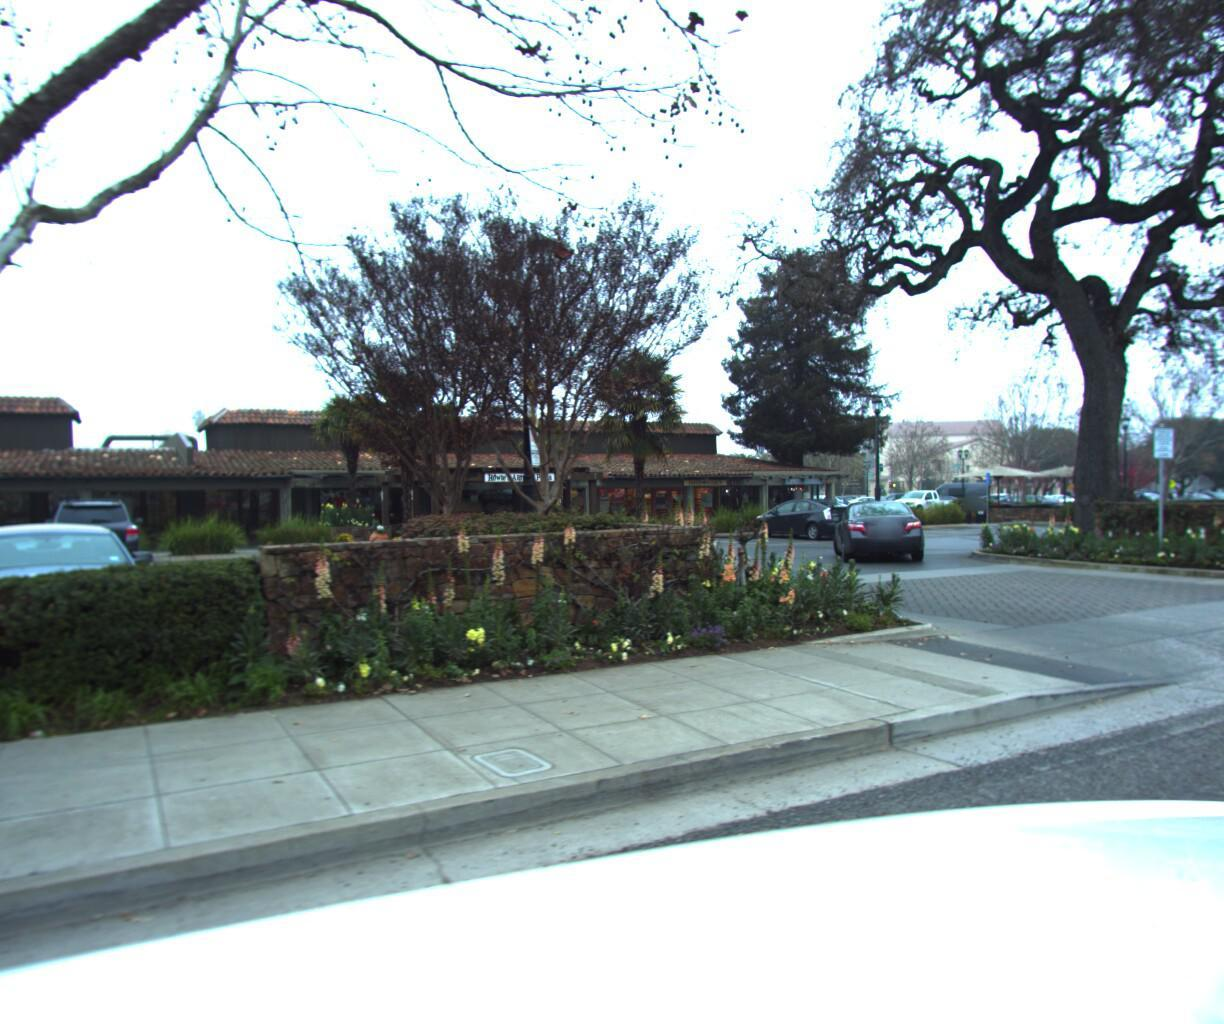car: (0, 509, 151, 701), (836, 490, 926, 558)
